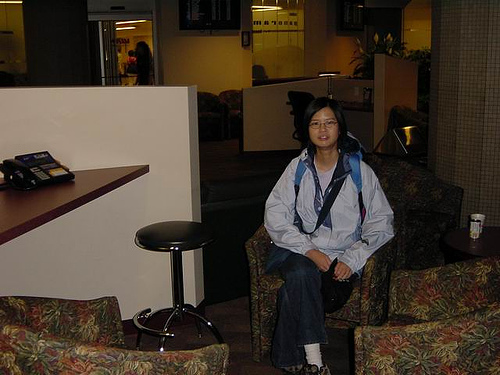without_mask: (308, 109, 341, 149)
